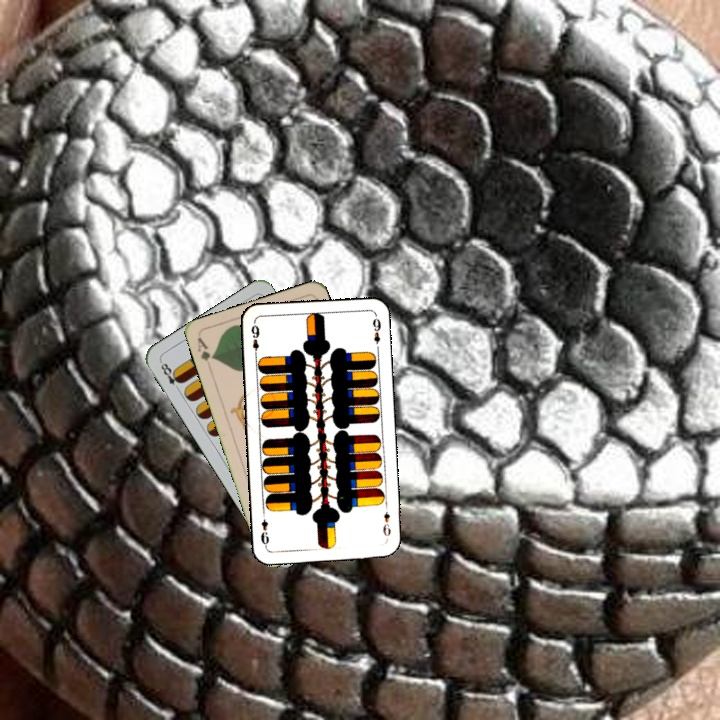E8: (156, 358, 185, 394)
E9: (247, 321, 262, 360), (379, 507, 393, 541)
GA: (193, 333, 217, 373)
